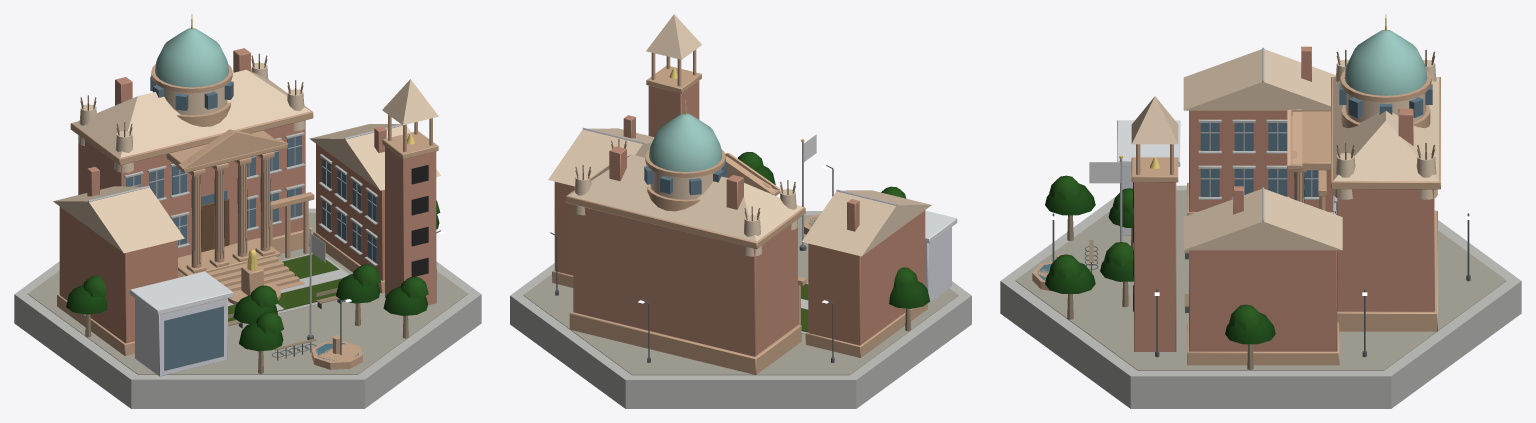
File: university_africa.glb
The picture shows the model from 3 angles, left to right: view 1: azimuth 30°, elevation 25°; view 2: azimuth 150°, elevation 25°; view 3: azimuth 270°, elevation 25°; orthographic projection. The views are drawn at different scales.
Visible parts, largest first — view 1: brick, wall_concrete, plaster, stone, pavers, glass, leaf, cladding, copper, dark, wood, turf (+2 smaller); view 2: brick, plaster, wall_concrete, stone, pavers, copper, cladding, leaf, glass, steel_dark, metal, wood; view 3: brick, wall_concrete, plaster, pavers, stone, leaf, glass, copper, cladding, wood, steel_dark, banner.
Part boxes in pixels (x1,y1,x2,y2): brick: (59,48,436,343); wall_concrete: (14,132,481,408); plaster: (53,62,440,253); stone: (57,64,438,369); pavers: (28,213,467,374); glass: (126,76,376,370); leaf: (66,200,440,351); cladding: (129,271,233,376); copper: (155,28,228,87); dark: (191,159,428,276); wood: (80,53,408,373); turf: (228,254,342,321); brick: (554,81,925,356); plaster: (548,14,931,256); wall_concrete: (510,211,971,408); stone: (552,49,927,375); pavers: (523,215,958,375); copper: (649,113,722,171); cladding: (925,210,957,303); leaf: (737,152,930,308); glass: (644,161,816,226); steel_dark: (550,165,834,362); metal: (582,127,897,246); wood: (575,139,910,331); brick: (1134,46,1434,351); wall_concrete: (1000,119,1521,408); plaster: (1131,49,1438,250); pavers: (1015,190,1506,370); stone: (1032,70,1440,365); leaf: (1045,175,1275,344); glass: (1037,84,1432,280); copper: (1344,29,1427,95); cladding: (1117,120,1180,235); wood: (1067,49,1435,369); steel_dark: (1052,213,1470,357); banner: (1089,162,1120,183).
Bounding box in the file's own units: 22.34 × 15.6 × 24.6.
